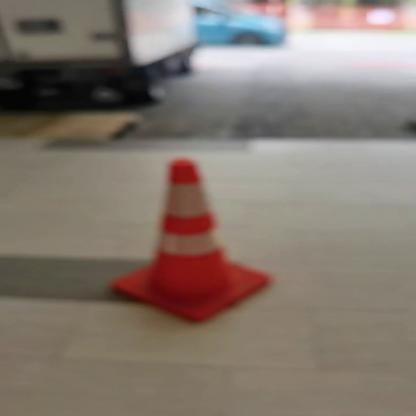cone: (85, 154, 289, 323)
